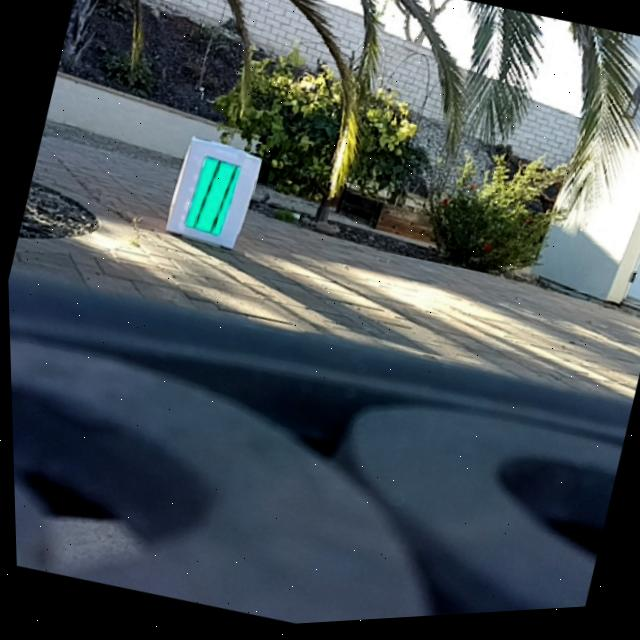led: (180, 160, 236, 245)
